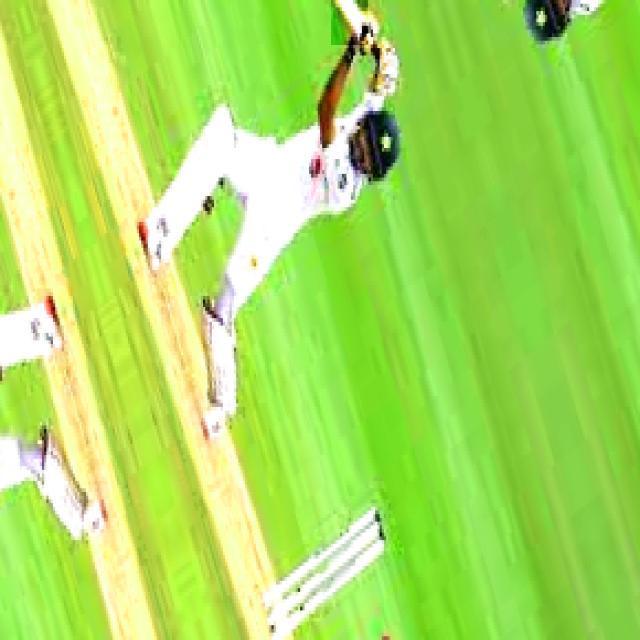bat: (334, 0, 369, 42)
